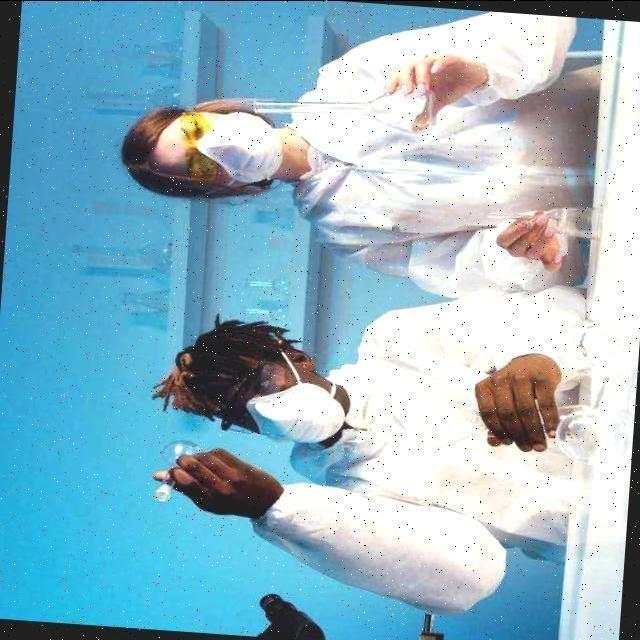mask: (250, 388, 350, 450), (207, 121, 281, 188)
no_gloves: (158, 322, 269, 410), (123, 114, 173, 194)
